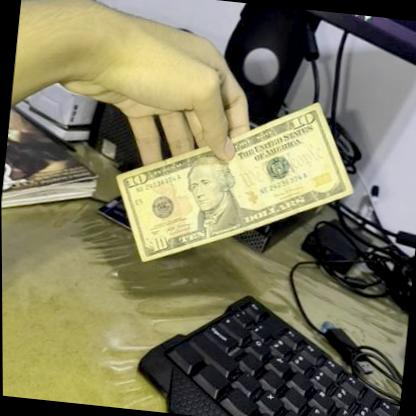ten-front: (106, 80, 366, 284)
